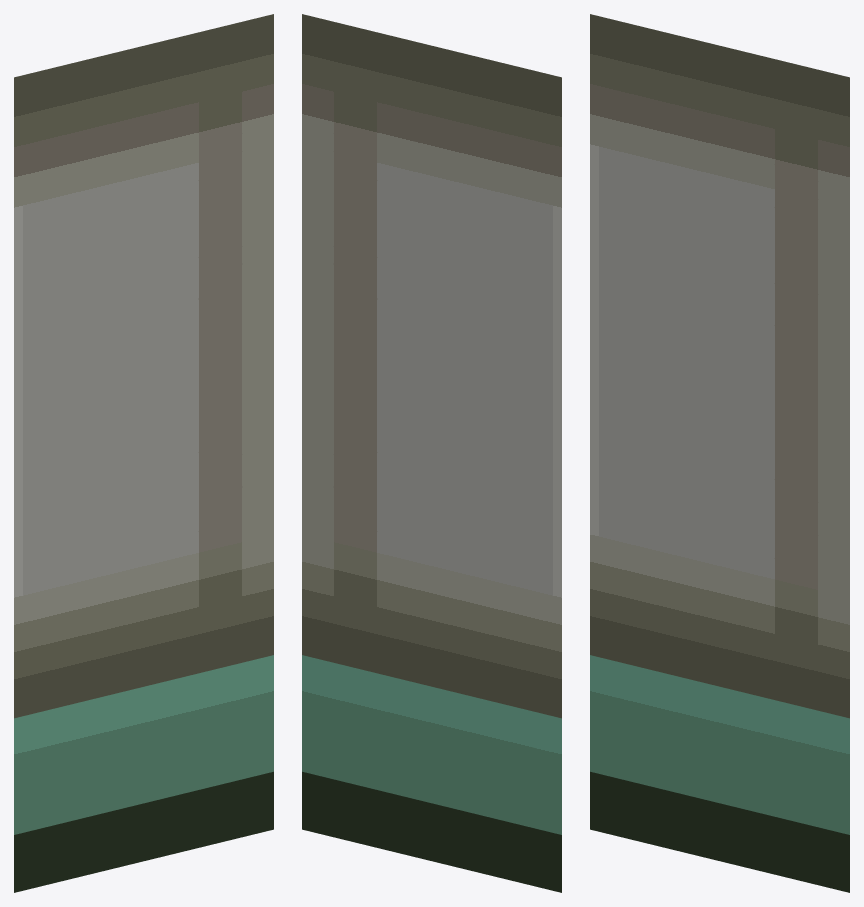
The picture shows the model from 3 angles, left to right: view 1: azimuth 30°, elevation 25°; view 2: azimuth 150°, elevation 25°; view 3: azimuth 330°, elevation 25°; orthographic projection.
Bounding box in the file's own units: 1 × 3 × 0.
1 material, 1 textured.
